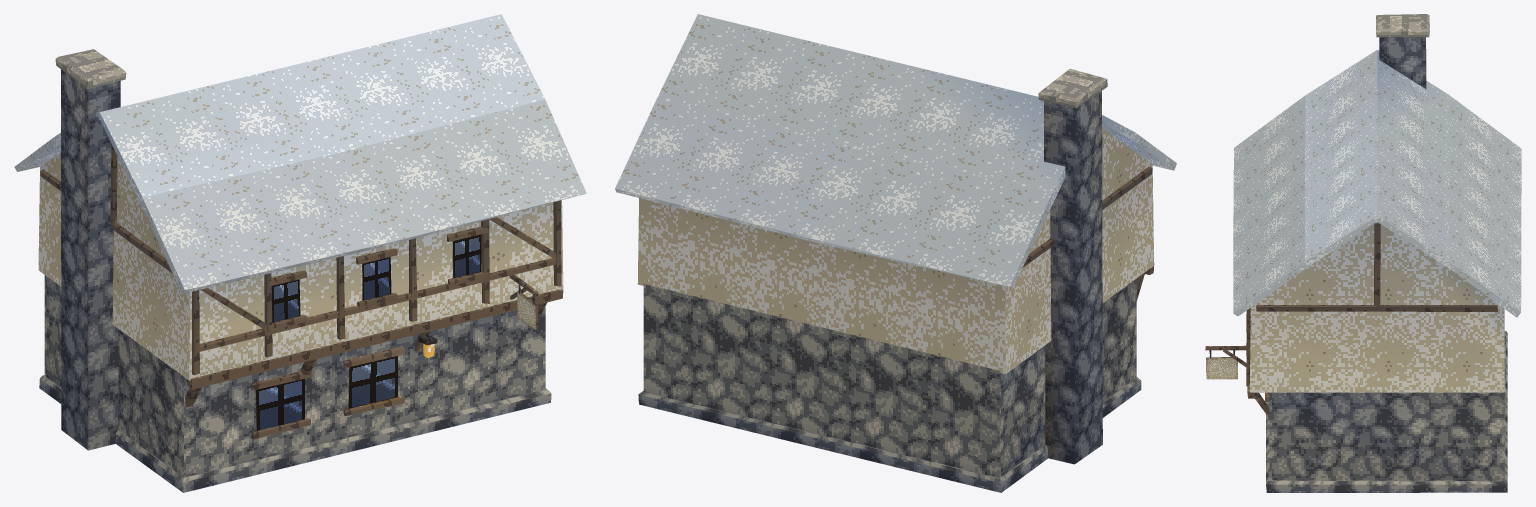
The model's file is vlg.tavern__doorway.glb.
3 views of the same model, side by side, from view 1: azimuth 30°, elevation 25°; view 2: azimuth 150°, elevation 25°; view 3: azimuth 270°, elevation 25° (orthographic). The views are drawn at different scales.
Visible parts, largest first — view 1: kit_roof, kit_walls, kit_stonework, kit_frame, kit_fittings; view 2: kit_walls, kit_roof, kit_stonework, kit_frame; view 3: kit_walls, kit_roof, kit_stonework, kit_frame, kit_fittings.
Part boxes in pixels (x1=…): kit_roof: x1=14, y1=14, x2=586, y2=293; kit_walls: x1=38, y1=152, x2=563, y2=477; kit_stonework: x1=39, y1=49, x2=551, y2=492; kit_frame: x1=40, y1=144, x2=563, y2=407; kit_fittings: x1=250, y1=226, x2=538, y2=439; kit_walls: x1=637, y1=128, x2=1154, y2=477; kit_roof: x1=615, y1=14, x2=1176, y2=287; kit_stonework: x1=638, y1=68, x2=1141, y2=492; kit_frame: x1=1022, y1=166, x2=1154, y2=300; kit_walls: x1=1249, y1=222, x2=1504, y2=481; kit_roof: x1=1233, y1=50, x2=1521, y2=317; kit_stonework: x1=1266, y1=14, x2=1507, y2=492; kit_frame: x1=1246, y1=223, x2=1497, y2=417; kit_fittings: x1=1205, y1=314, x2=1269, y2=401.
Size of the model in its own units: 10.35 by 8.87 by 8.06.
Materials: 9 (9 with a texture image).
